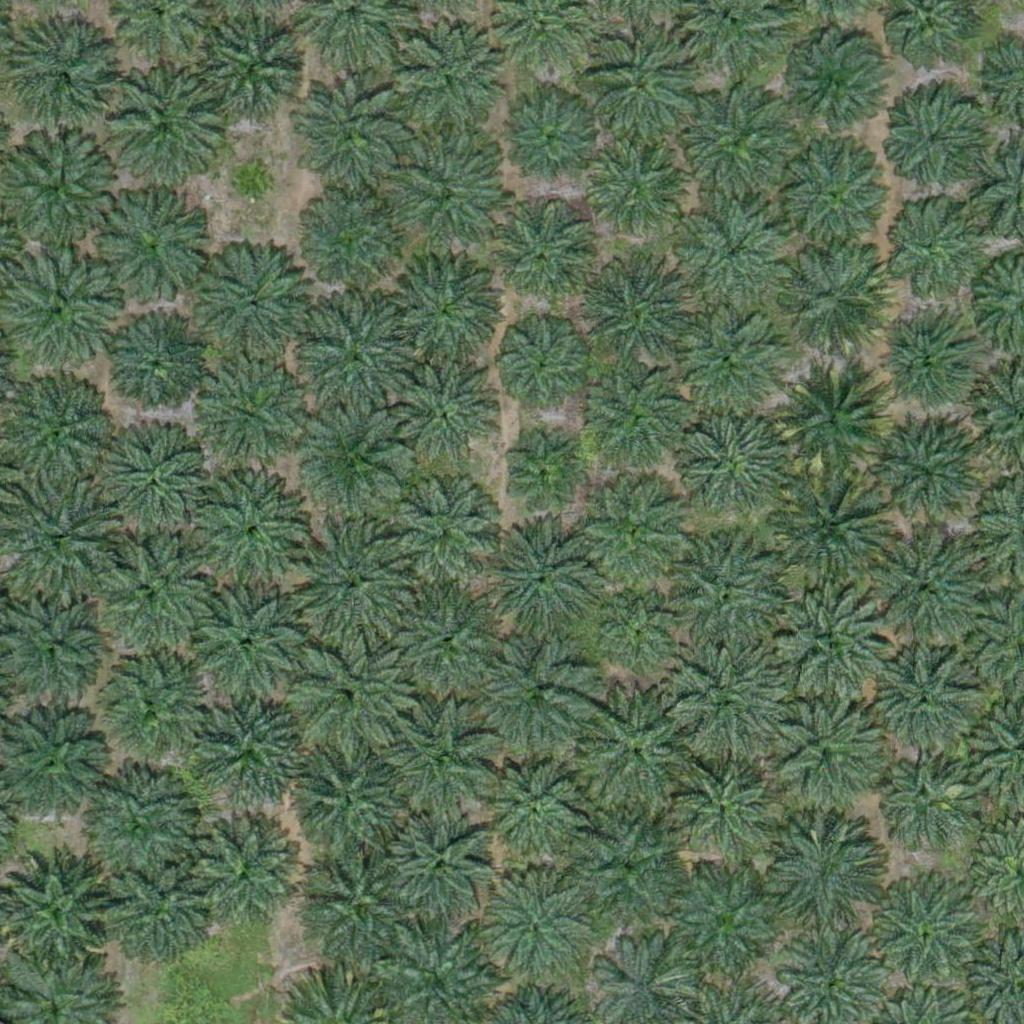Kelapa_Sawit: (295, 298, 420, 424), (78, 534, 203, 660), (288, 519, 413, 645), (284, 634, 409, 760), (580, 690, 705, 816), (666, 537, 791, 663), (83, 645, 208, 770), (72, 763, 197, 888), (671, 412, 784, 526), (582, 255, 695, 369), (389, 585, 502, 699), (386, 478, 499, 592), (584, 27, 697, 140), (297, 406, 410, 519), (191, 360, 304, 473), (194, 242, 307, 355), (196, 20, 309, 133), (6, 479, 119, 592), (98, 853, 211, 966), (385, 810, 498, 923), (382, 706, 495, 819), (672, 642, 785, 755), (766, 819, 879, 932), (769, 699, 882, 812), (774, 595, 887, 708), (871, 878, 984, 991), (389, 17, 501, 131), (390, 135, 502, 249), (296, 81, 408, 195), (481, 526, 593, 640), (483, 640, 595, 754), (571, 819, 683, 933), (666, 870, 778, 984), (873, 422, 985, 535), (779, 141, 891, 254), (775, 241, 887, 354), (780, 366, 892, 479), (676, 196, 788, 309), (681, 94, 793, 207), (387, 250, 499, 363), (98, 183, 210, 296), (108, 429, 220, 542), (4, 22, 116, 135), (189, 816, 301, 929), (196, 691, 308, 804), (188, 588, 300, 701), (193, 478, 305, 591), (293, 748, 405, 861), (300, 846, 412, 959), (775, 471, 887, 584), (870, 531, 982, 644), (866, 640, 978, 753), (879, 313, 979, 414), (882, 199, 982, 300), (886, 93, 986, 194), (789, 33, 889, 134), (396, 364, 496, 465), (301, 188, 401, 289), (115, 78, 215, 179), (108, 315, 208, 416), (489, 875, 589, 976), (583, 488, 683, 589), (876, 744, 976, 845), (680, 307, 780, 407), (586, 145, 686, 245), (588, 367, 688, 467), (482, 758, 582, 858), (675, 754, 775, 854), (499, 323, 587, 411), (501, 218, 589, 306), (509, 98, 596, 186), (502, 438, 577, 514), (604, 597, 679, 673), (227, 159, 277, 209)
